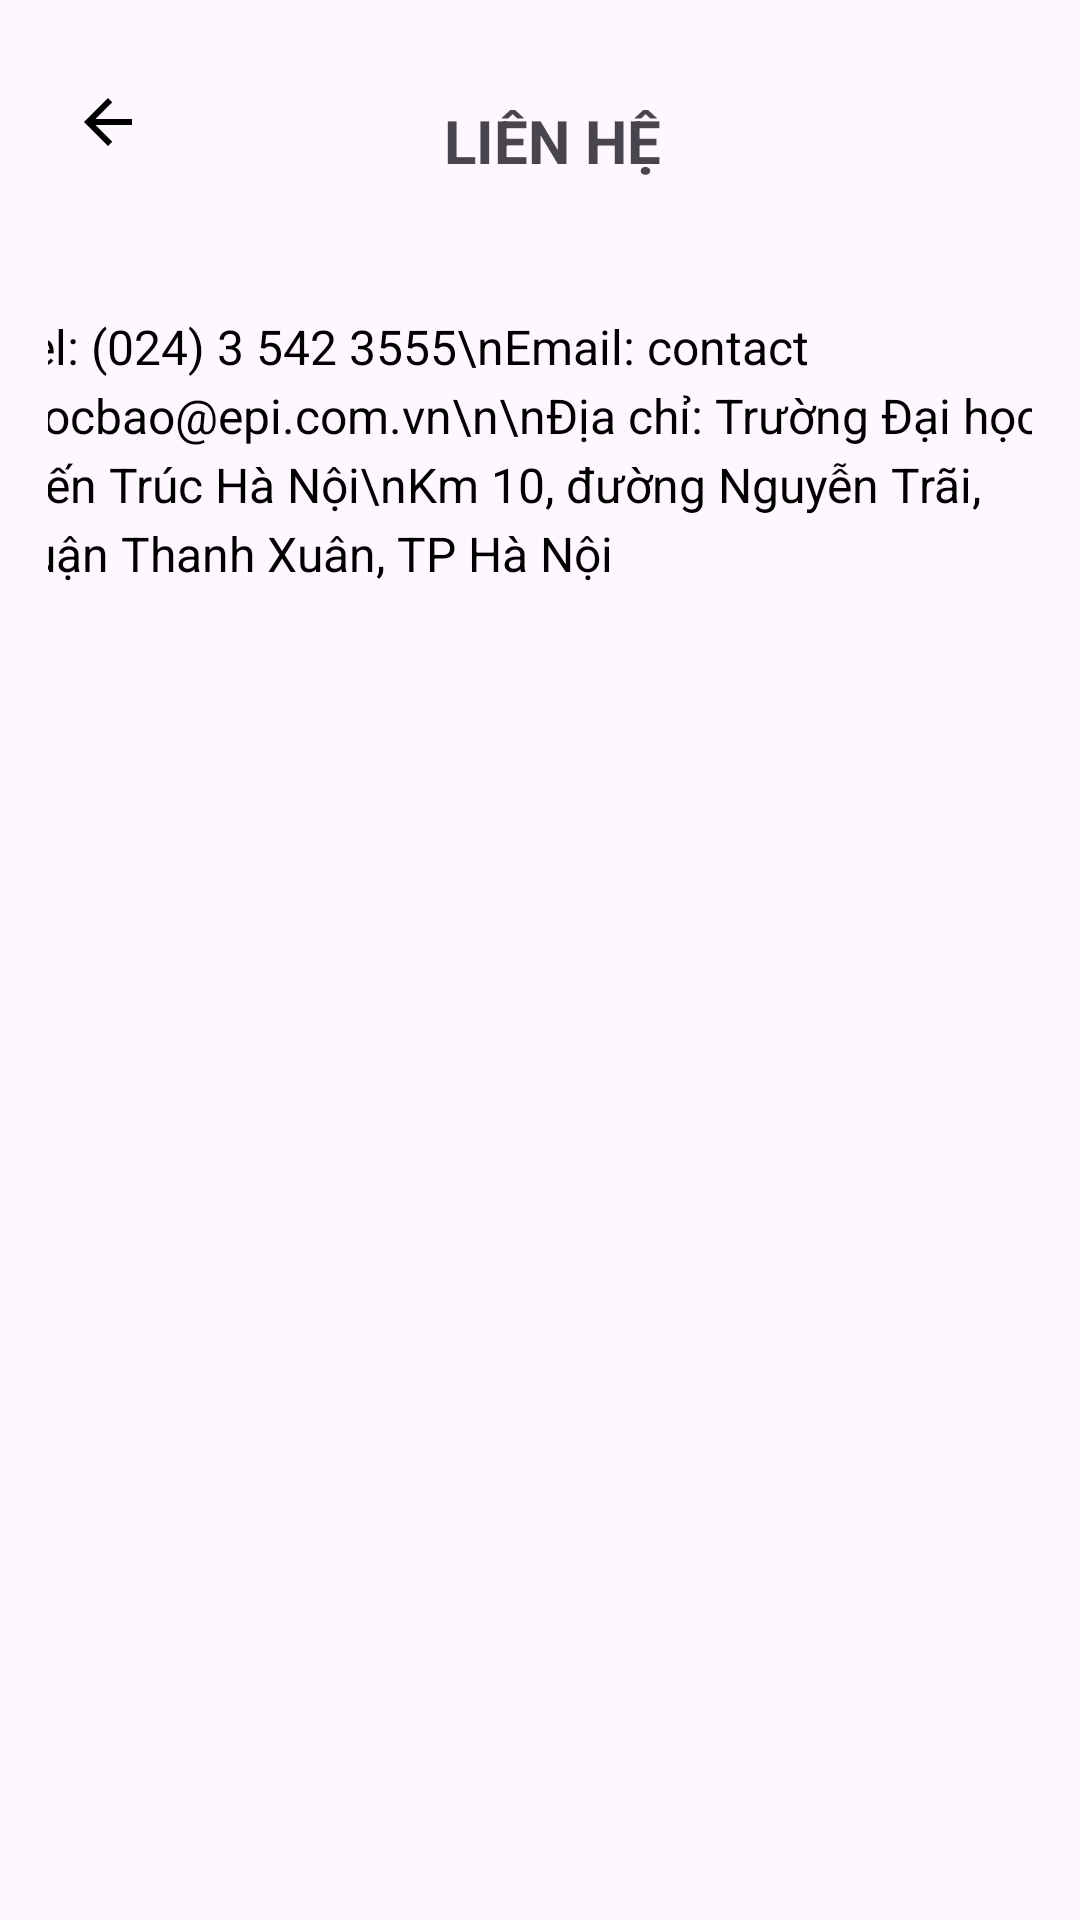

Point at icon controls on the screen. Image size 1080px x 1920px, points as (x,y).
Quay lại: (108,122)
